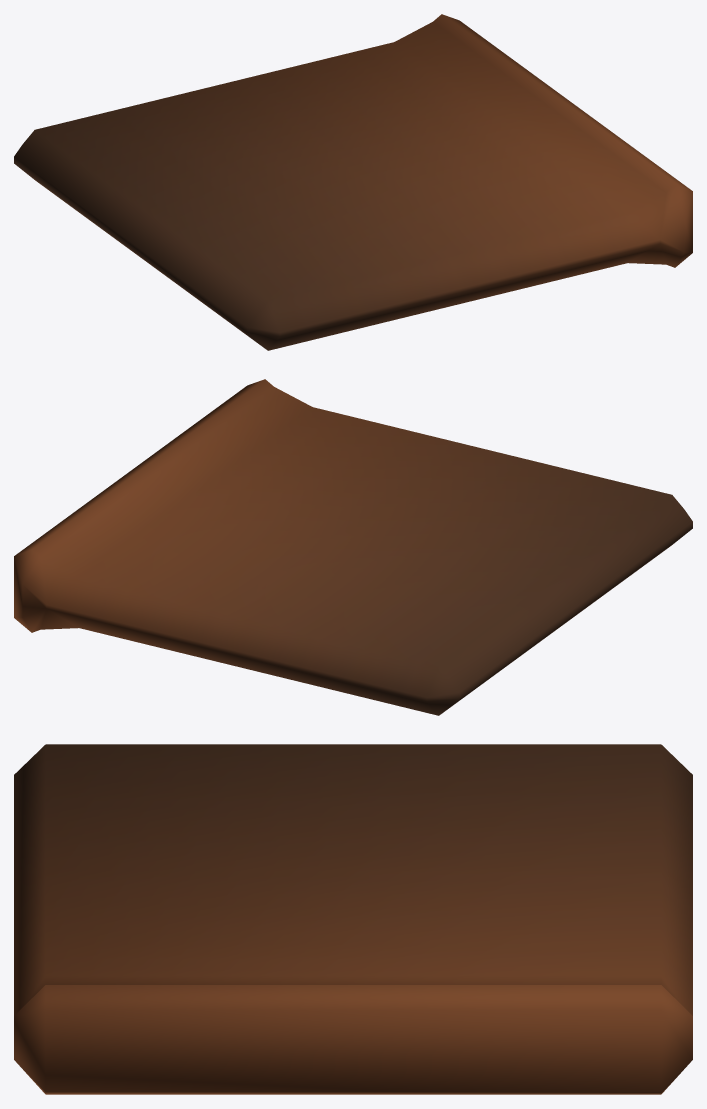
Rendered from woodPanel.fbx.
3 views of the same model, one above another, from view 1: azimuth 30°, elevation 25°; view 2: azimuth 150°, elevation 25°; view 3: azimuth 270°, elevation 25° (orthographic). The views are drawn at different scales.
Parts seen in each view (by area): view 1: woodPanel; view 2: woodPanel; view 3: woodPanel.
Boxes of the visible parts, x1,y1,x2,y2 form: woodPanel: [14, 14, 692, 350]; woodPanel: [14, 379, 692, 715]; woodPanel: [14, 744, 692, 1094].
Bounding box in the file's own units: 200 × 35.6 × 200.
